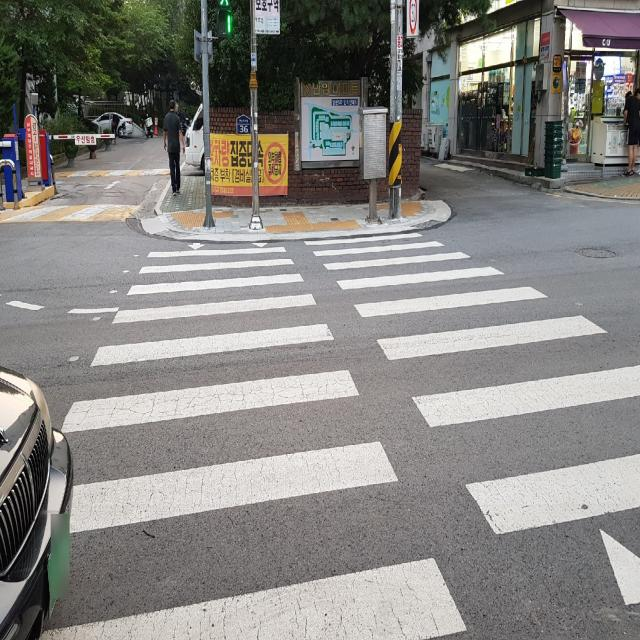횡단보도: (38, 233, 640, 640)
